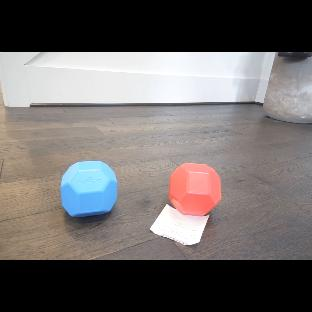V5_BLUE: (60, 161, 118, 218)
V5_RED: (169, 162, 222, 216)
